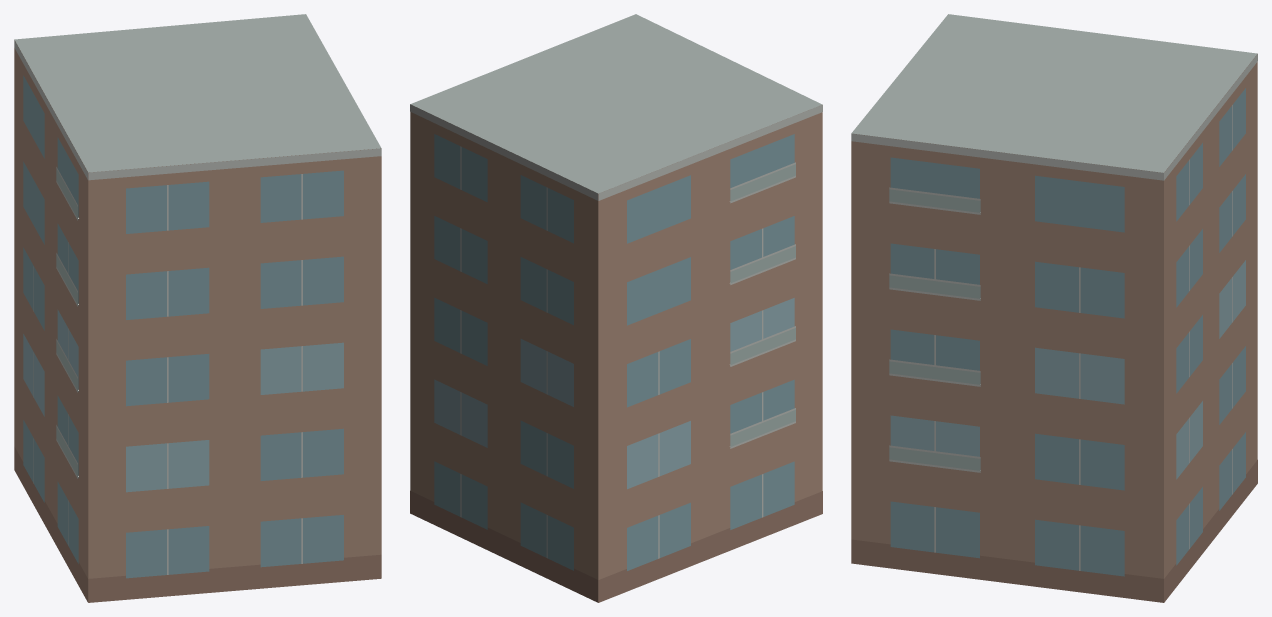
File: survey-upis-32526629.glb
3 renders of one model, left to right at view 1: azimuth 30°, elevation 25°; view 2: azimuth 150°, elevation 25°; view 3: azimuth 270°, elevation 25°, orthographic. The views are drawn at different scales.
Parts seen in each view (by area): view 1: survey-upis-32526629.tmp; view 2: survey-upis-32526629.tmp; view 3: survey-upis-32526629.tmp.
Part boxes in pixels (<box>): survey-upis-32526629.tmp: <box>14,14,381,602</box>; survey-upis-32526629.tmp: <box>410,14,822,602</box>; survey-upis-32526629.tmp: <box>851,14,1257,602</box>.
Bounding box in the file's own units: 10.63 × 13.4 × 11.49.
